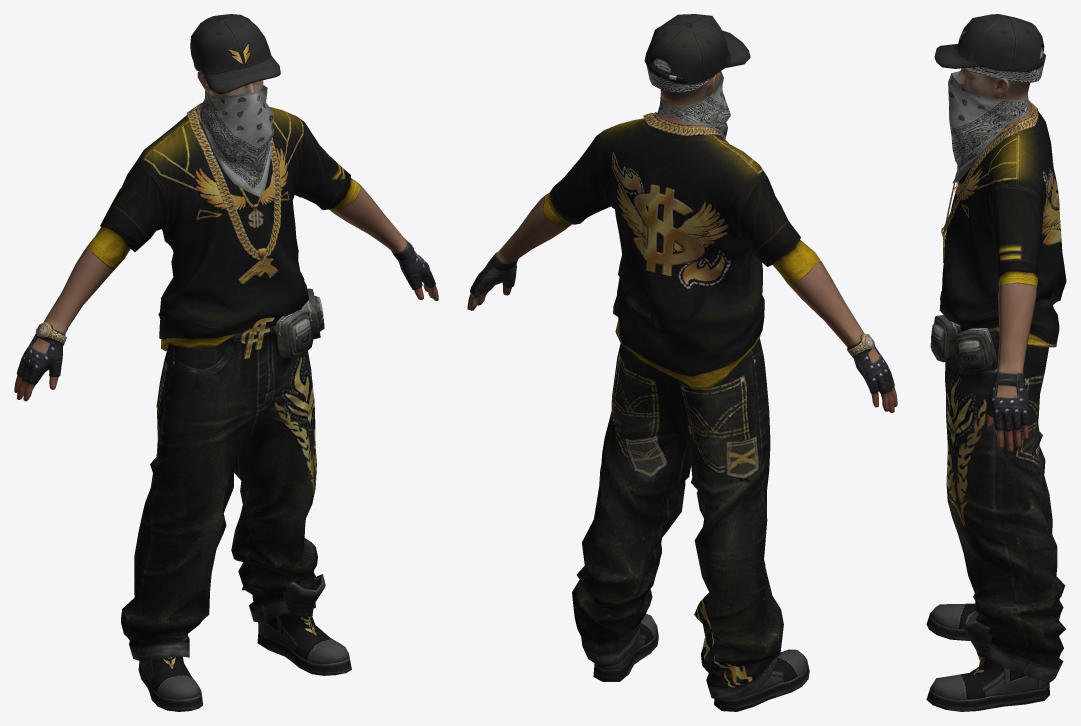
Rendered from char2.glb.
3 views of the same model, side by side, from view 1: azimuth 30°, elevation 25°; view 2: azimuth 150°, elevation 25°; view 3: azimuth 270°, elevation 25° (orthographic).
Parts seen in each view (by area): view 1: Object_4, Object_5, Object_3, Object_2, Object_6; view 2: Object_4, Object_5, Object_2, Object_6, Object_3; view 3: Object_4, Object_5, Object_3, Object_6, Object_2.
Boxes of the visible parts, <box> form: Object_4: <box>121,288,324,661</box>; Object_5: <box>16,85,435,384</box>; Object_3: <box>138,574,351,711</box>; Object_2: <box>14,71,438,401</box>; Object_6: <box>190,14,280,94</box>; Object_4: <box>572,296,783,700</box>; Object_5: <box>470,71,894,394</box>; Object_2: <box>467,72,897,413</box>; Object_6: <box>644,14,750,92</box>; Object_3: <box>593,613,809,711</box>; Object_4: <box>930,315,1065,682</box>; Object_5: <box>939,71,1066,431</box>; Object_3: <box>926,603,1049,711</box>; Object_6: <box>934,14,1045,82</box>; Object_2: <box>955,68,1036,452</box>.
Bounding box in the file's own units: 2.01 × 2.98 × 0.5844.
Materials: 5 (5 with a texture image).
